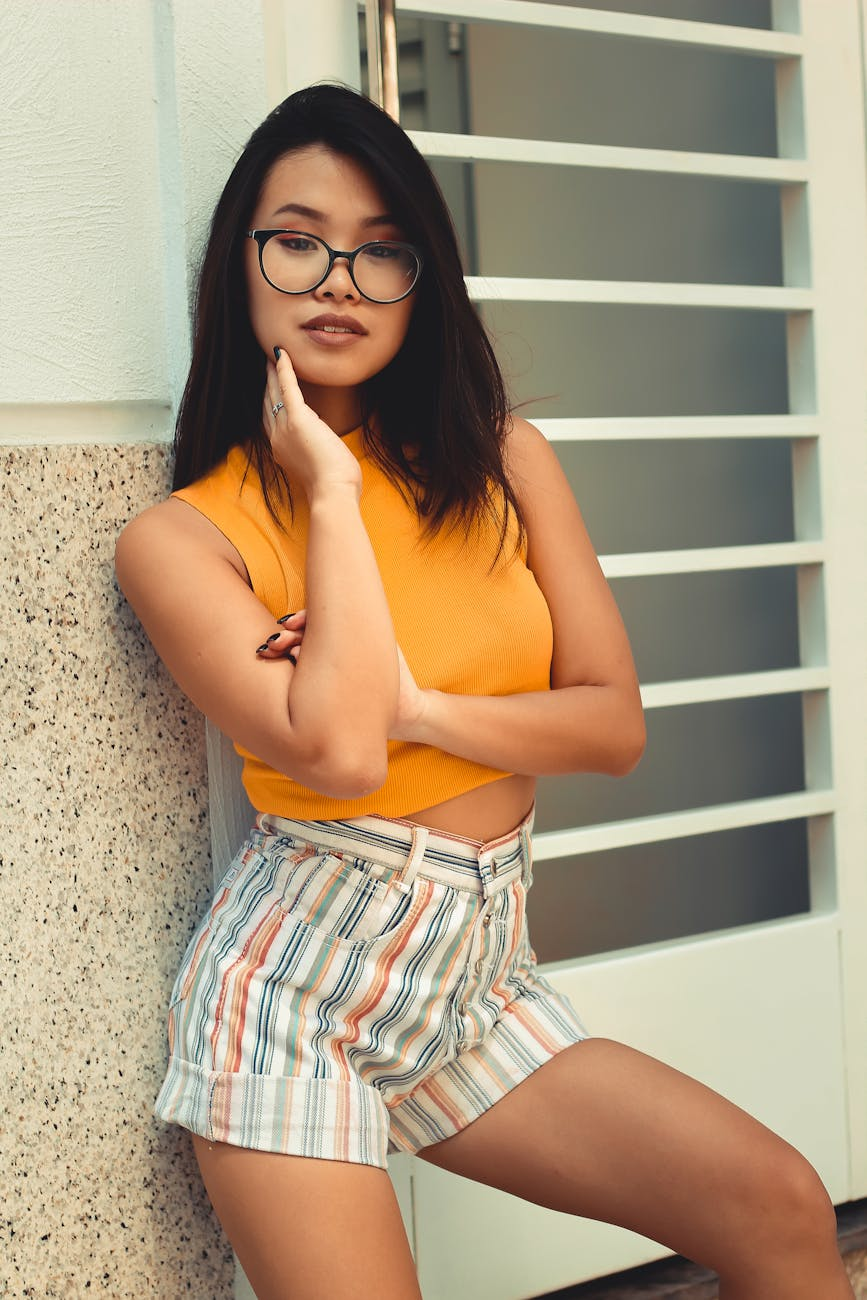crop_top: (147, 414, 580, 786)
shorts: (152, 797, 605, 1171)
